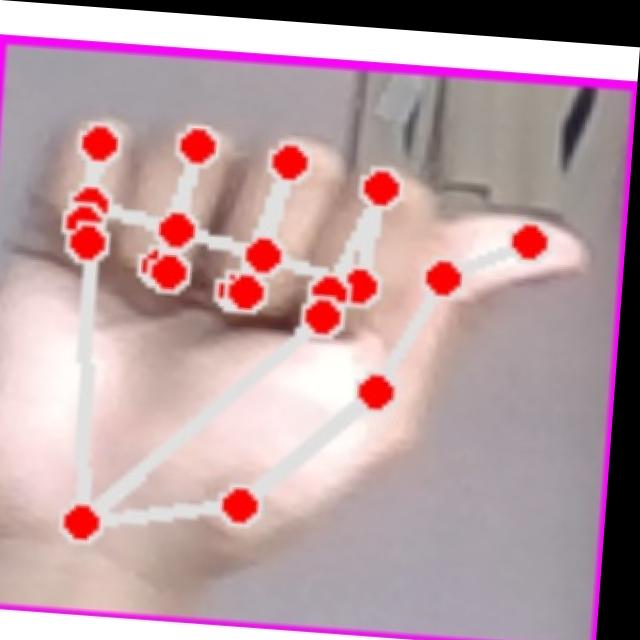A: (0, 77, 622, 610)
